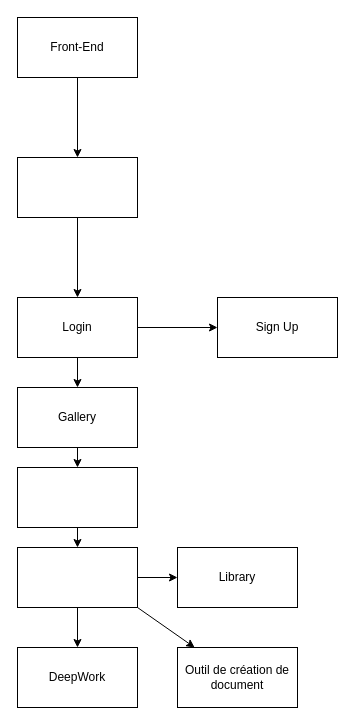
Some shapes in this 355 by 725 pixel diagram are drawn without their labels. Here are the shapes that lost their labels. From the top down, the box of each, then its label:
(16, 156, 138, 218): HomePage
(16, 466, 138, 528): Salon
(16, 546, 138, 608): Office
